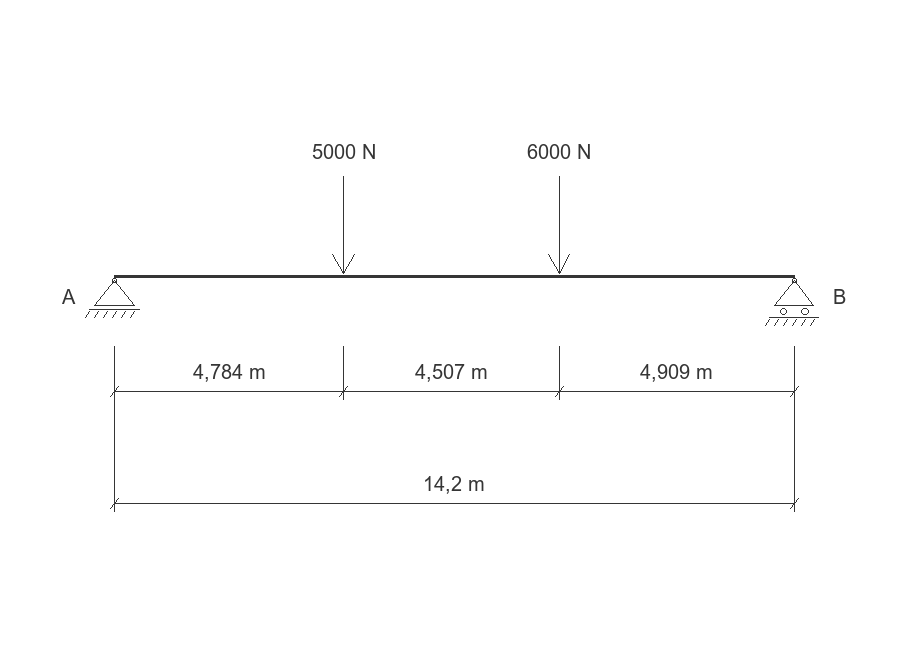pin_support: (85, 278, 140, 318)
point_load: (332, 176, 355, 274), (548, 176, 570, 274)
roller_support: (765, 278, 819, 326)
